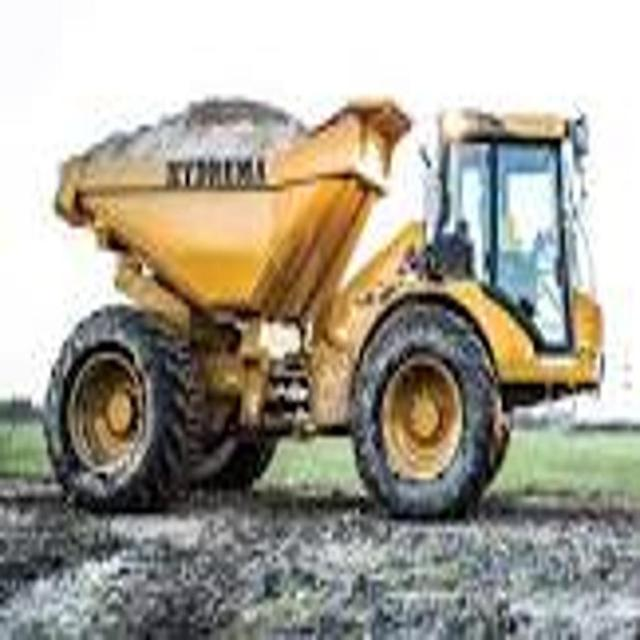dump_truck: (44, 69, 614, 537)
